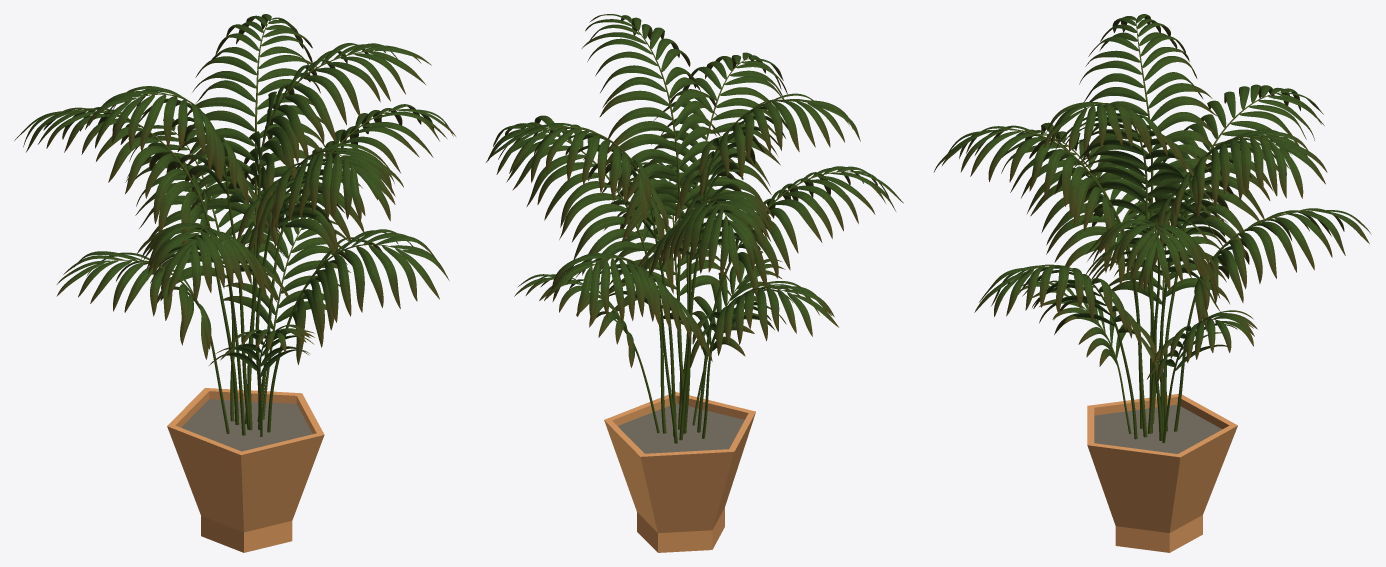
The model's file is plant.glb.
3 views of the same model, side by side, from view 1: azimuth 30°, elevation 25°; view 2: azimuth 150°, elevation 25°; view 3: azimuth 270°, elevation 25° (orthographic). The views are drawn at different scales.
Parts seen in each view (by area): view 1: Howea_f__A001.003, Cylinder.082; view 2: Howea_f__A001.003, Cylinder.082; view 3: Howea_f__A001.003, Cylinder.082.
Boxes of the visible parts, <box> form: Howea_f__A001.003: <box>14,14,455,436</box>; Cylinder.082: <box>167,388,324,552</box>; Howea_f__A001.003: <box>486,14,903,443</box>; Cylinder.082: <box>604,392,755,552</box>; Howea_f__A001.003: <box>933,14,1371,443</box>; Cylinder.082: <box>1087,394,1237,552</box>.
Size of the model in its own units: 1.49 by 1.83 by 1.54.
4 materials, 2 textured.
